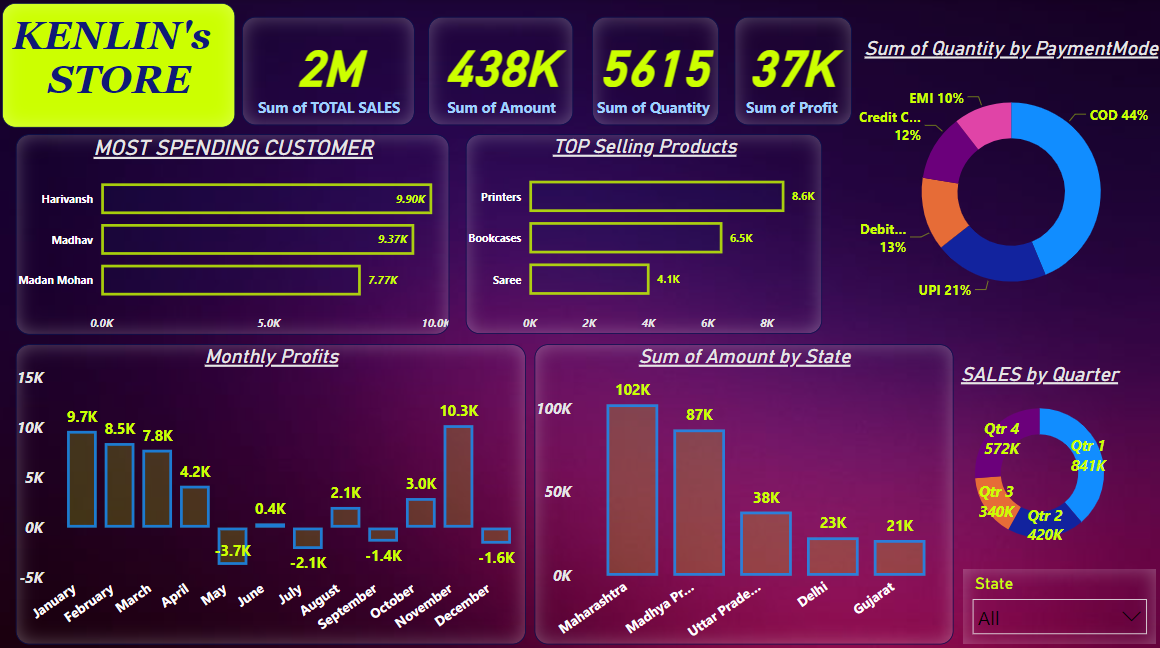

The page's visual inventory and layout, read from the dashboard file:
{"tool":"powerbi","page":{"name":"Page 1","canvas":[1280,720],"ordinal":0},"visuals":[{"type":"columnChart","title":"Monthly Profits","fields":{"Y":["Details.Profit"],"Category":["Orders.Order Date.Variation.Date Hierarchy.Month"]},"box":[20,380.1,559.9,329.3],"z":0},{"type":"textbox","box":[5,5,256,137],"z":1000},{"type":"clusteredBarChart","title":"TOP Selling Products","fields":{"Category":["Details.Sub-Category"],"Y":["Details.Profit"]},"box":[514,149.6,391.1,219.6],"z":2000},{"type":"donutChart","title":"SALES by Quarter","fields":{"Y":["Details.TOTAL SALES"],"Category":["Orders.Order Date.Variation.Date Hierarchy.Quarter"]},"box":[1008.6,380.1,271.7,256.6],"z":3000},{"type":"donutChart","fields":{"Category":["Details.PaymentMode"],"Y":["Details.Quantity"]},"box":[946.8,42.5,333.4,317],"z":4000},{"type":"card","fields":{"Values":["Details.Profit"]},"box":[809.6,20.6,129,119.4],"z":5000},{"type":"card","fields":{"Values":["Details.Amount"]},"box":[473.4,20.6,159,119.4],"z":6000},{"type":"card","fields":{"Values":["Details.TOTAL SALES"]},"box":[269,20.6,189.4,119.4],"z":7000},{"type":"card","fields":{"Values":["Details.Quantity"]},"box":[653.2,20.6,139,119.4],"z":8000},{"type":"barChart","title":"MOST SPENDING  CUSTOMER","fields":{"Category":["Orders.CustomerName"],"Y":["Details.Amount"]},"box":[20,149.6,476,220],"z":9000},{"type":"columnChart","fields":{"Category":["Orders.State"],"Y":["Details.Amount"]},"box":[590,380.1,459.7,329.3],"z":10000},{"type":"slicer","fields":{"Values":["Orders.State"]},"box":[1060.7,627.1,211.3,82.3],"z":11000}]}

Visuals, with their boxes in screenshot pixels (x1, y1, x2, y2), scaled from the page's 1280x720 canvas onto the 1160x648 screenshot:
"Monthly Profits" columnChart: [18, 342, 526, 638]
textbox: [5, 4, 237, 128]
"TOP Selling Products" clusteredBarChart: [466, 135, 820, 332]
"SALES by Quarter" donutChart: [914, 342, 1159, 573]
donutChart - Details.PaymentMode x Details.Quantity: [858, 38, 1159, 324]
card - Details.Profit: [734, 19, 851, 126]
card - Details.Amount: [429, 19, 573, 126]
card - Details.TOTAL SALES: [244, 19, 415, 126]
card - Details.Quantity: [592, 19, 718, 126]
"MOST SPENDING  CUSTOMER" barChart: [18, 135, 450, 333]
columnChart - Orders.State x Details.Amount: [535, 342, 951, 638]
slicer - Orders.State: [961, 564, 1153, 638]
